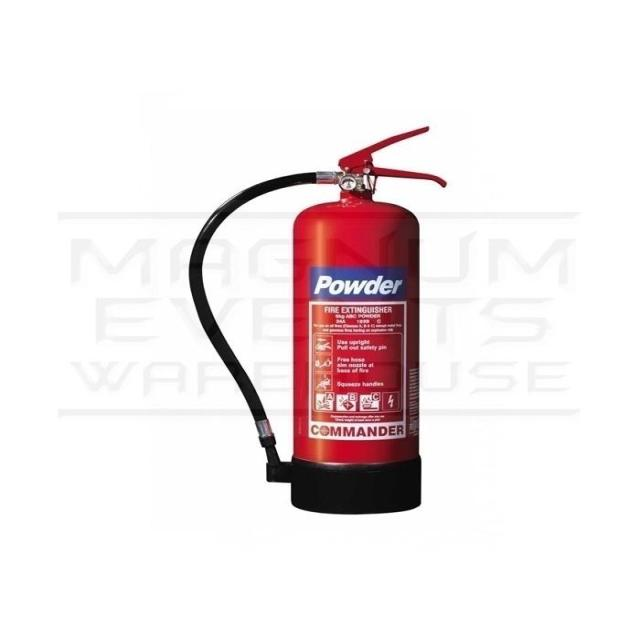fire_extinguisher: (180, 120, 451, 518)
